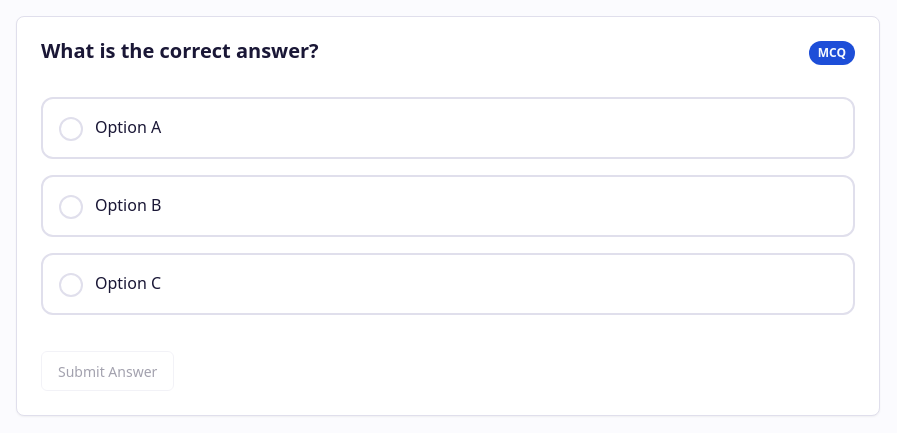
it: Question Component › toggles selection when clicking the same option
The width and height of the screenshot is (897, 433).
Click the text "Option A".
click(128, 127)  # box [95,116,161,138]
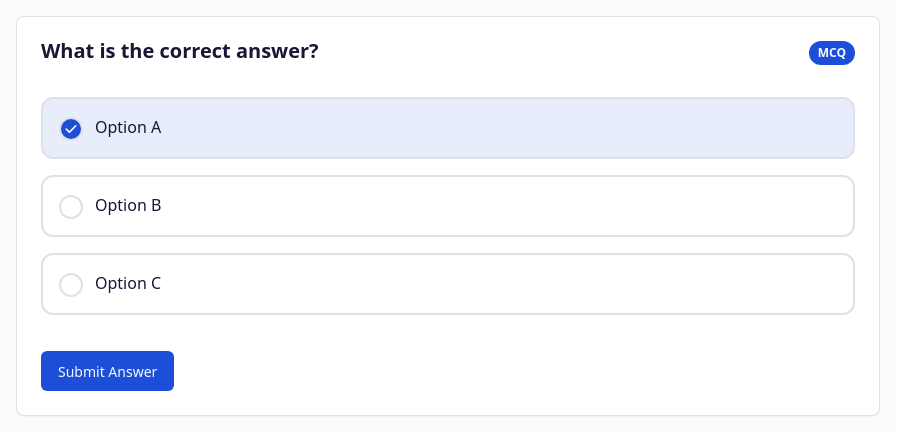
Expected: the button "Submit Answer" is enabled, [41,351,174,391]
Click the text "Option A".
click(128, 127)  # box [95,116,161,138]
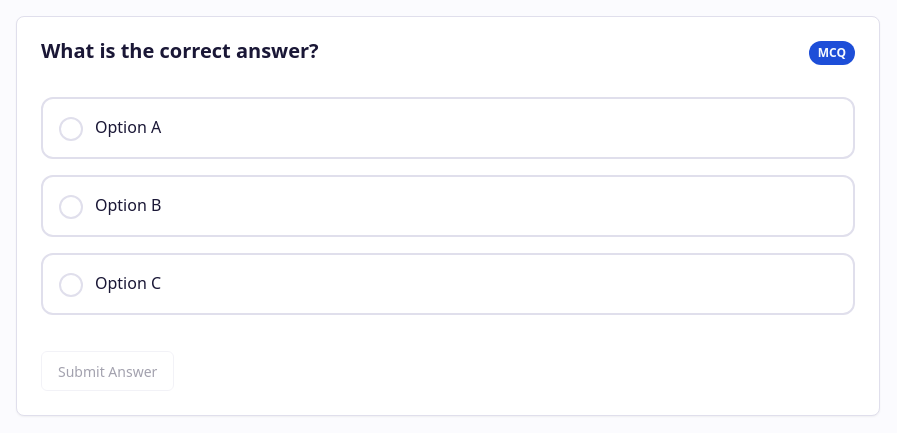
Expected: the button "Submit Answer" is disabled, [41,351,174,391]
